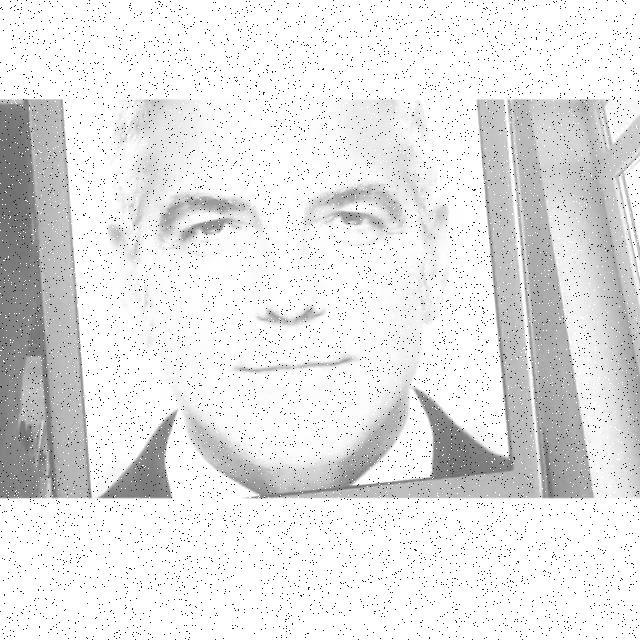fake: (13, 98, 557, 497)
